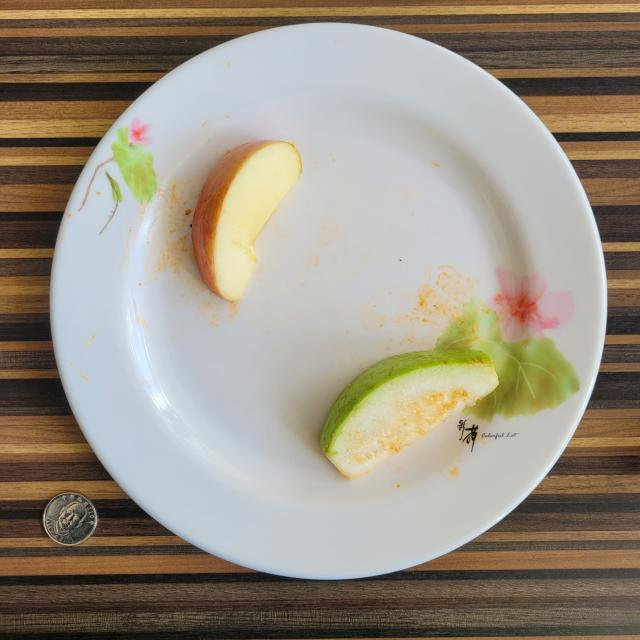apple -sliced-: (191, 140, 301, 301)
coin: (42, 492, 98, 546)
guava -sliced-: (320, 349, 499, 480)
